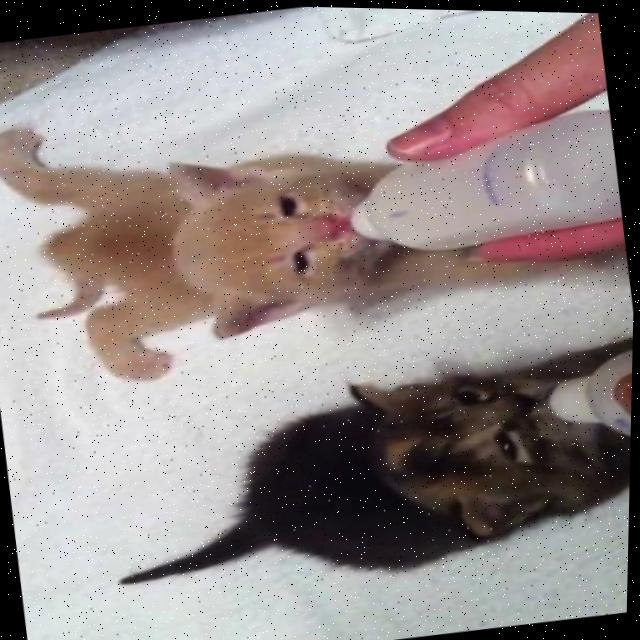Cats: (0, 45, 554, 409), (79, 324, 634, 619)
